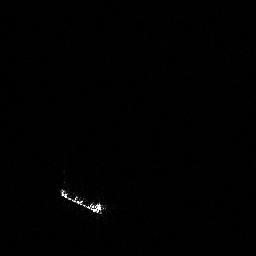ship: (56, 185, 109, 218)
